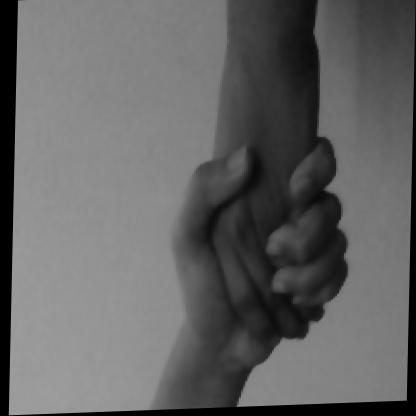handshake: (111, 0, 368, 412)
